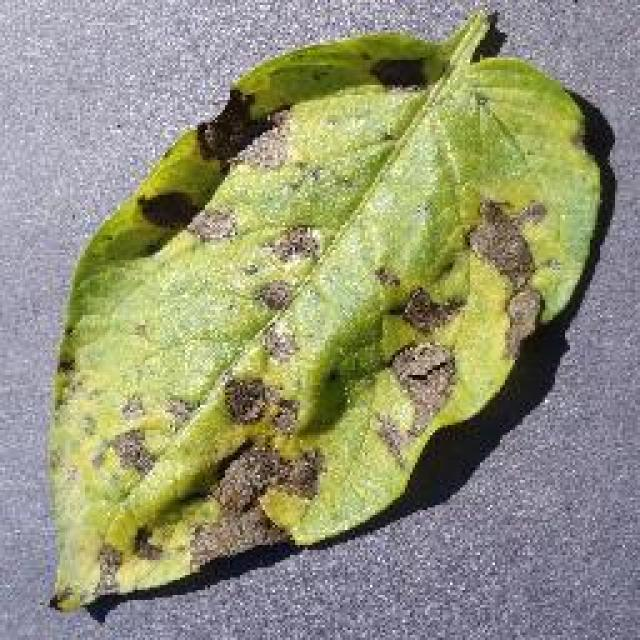Potato___Early_blight: (43, 7, 605, 616)
